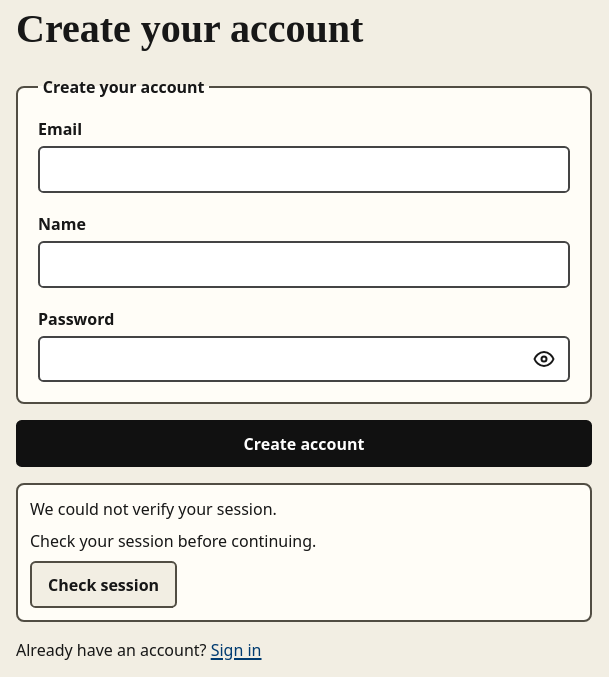
Test: signup-form: › does not show a stale signup rejection after a newer auth generation
Type "ada@example.test" into the field labelled "Email" at (304, 169), box [38,146,570,193]
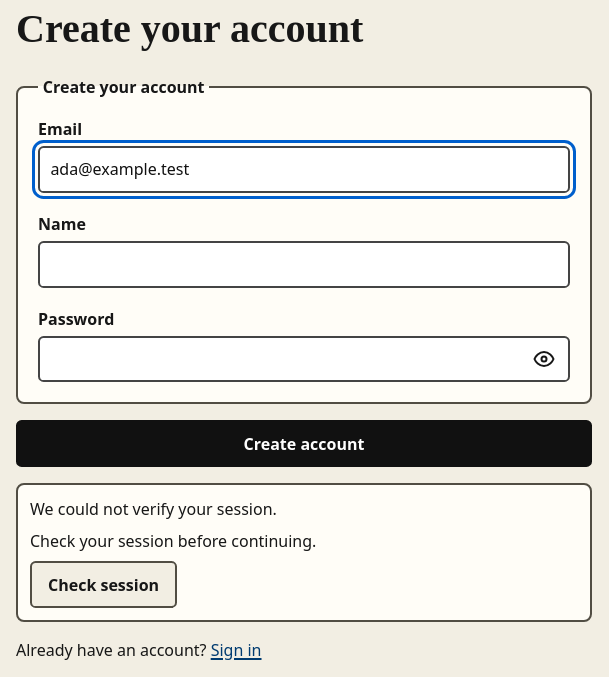
Type "Ada Example" into the field labelled "Name" at (304, 264), box [38,241,570,288]
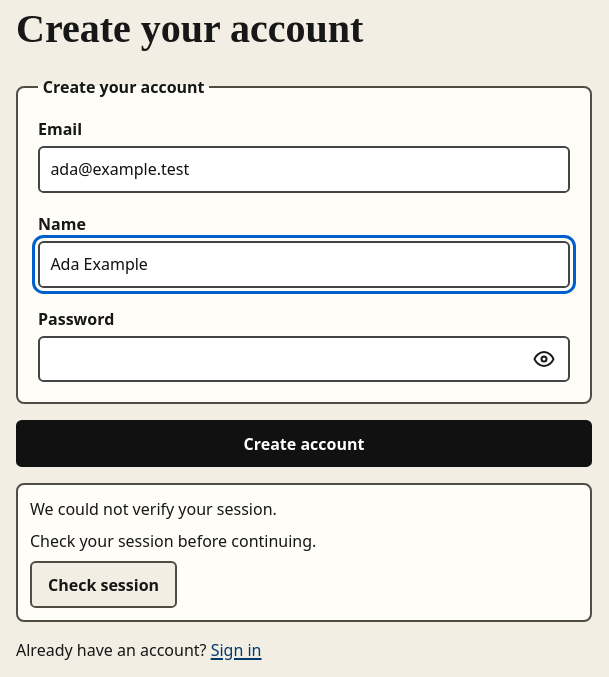
Type "Abcdef1!" into the password field labelled "Password" at (304, 359), box [38,336,570,382]
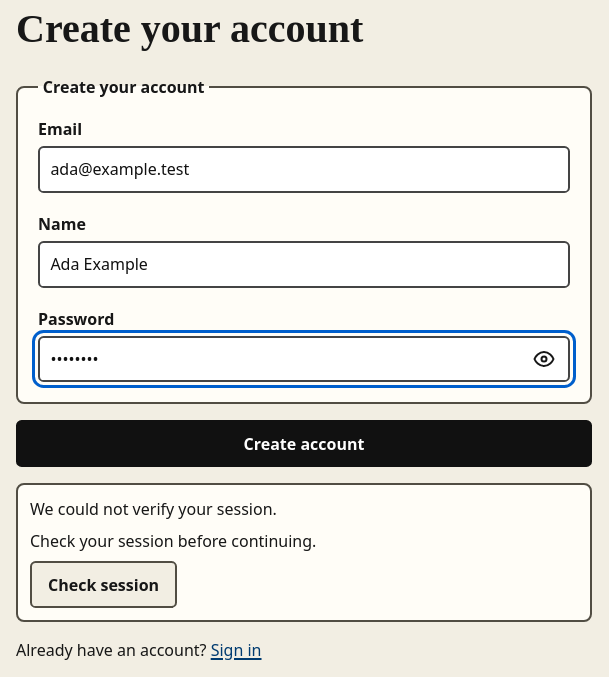
Click the button "Create account" at (304, 444), box [16,420,592,467]
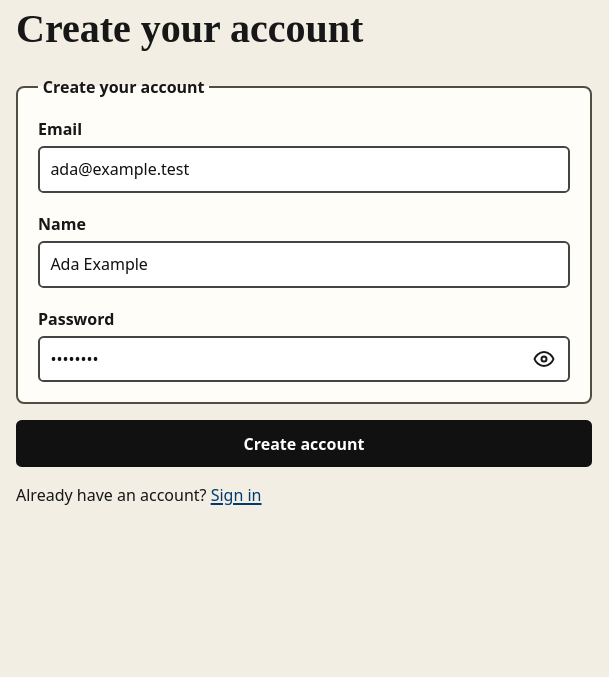
Check: the message "We could not verify your session. Check your session before continuing." is gone
